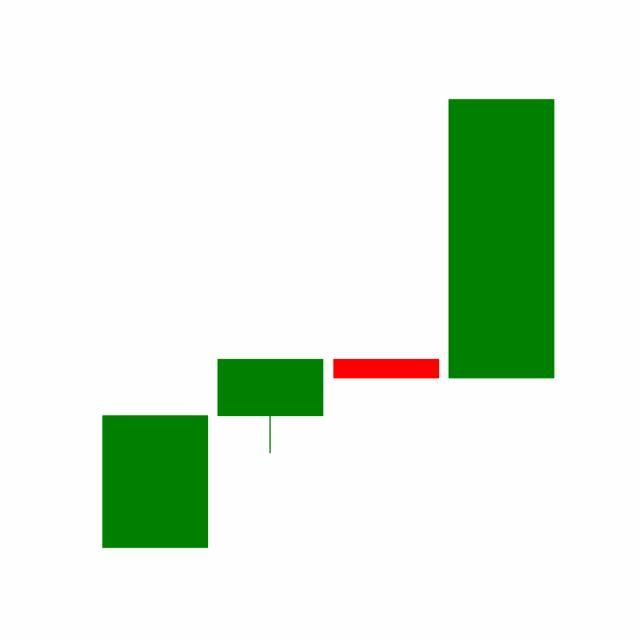Marubozu: (444, 97, 560, 382)
